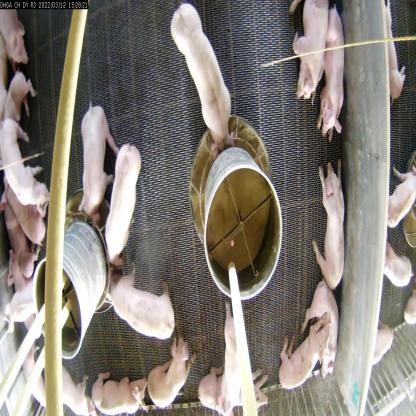Pig: (172, 0, 239, 162), (314, 160, 358, 306), (96, 134, 148, 244), (81, 88, 116, 233), (302, 277, 346, 385), (278, 316, 330, 405), (314, 14, 345, 143), (284, 0, 325, 88), (204, 359, 268, 415), (0, 115, 40, 200), (220, 313, 255, 407), (139, 339, 190, 402), (7, 192, 50, 252), (92, 370, 147, 415), (41, 362, 85, 415), (100, 267, 162, 301)
